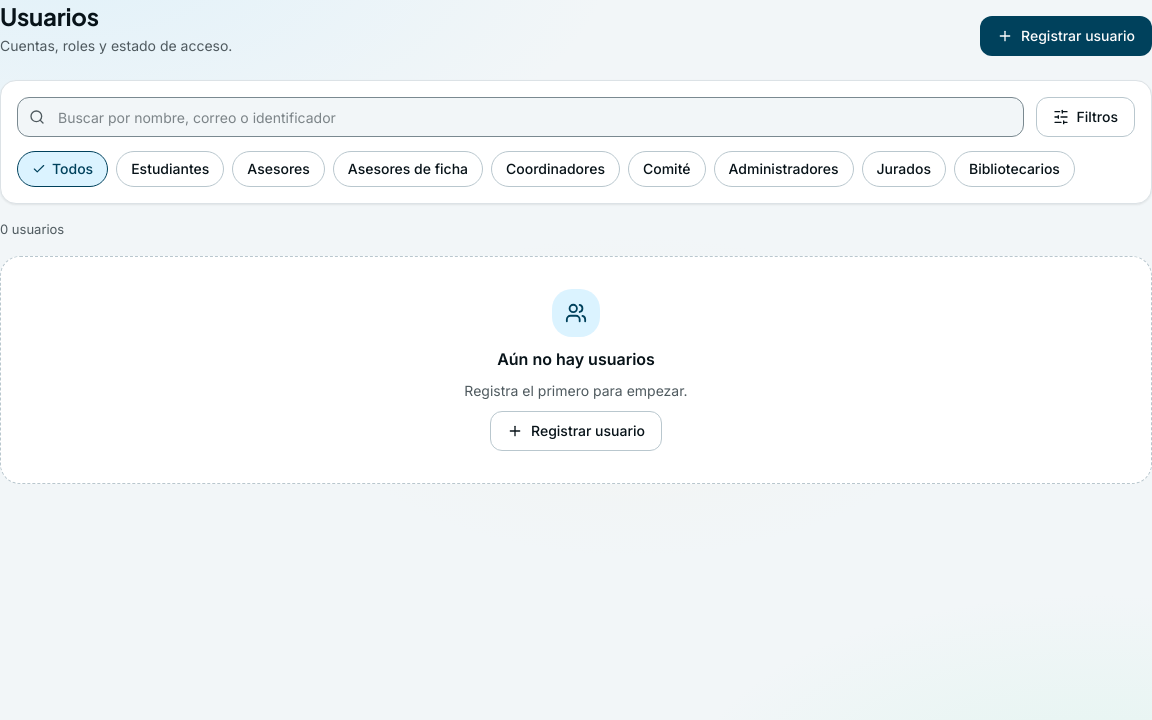
it: AdministradorView › el vacío "Aún no hay usuarios" ofrece "Registrar usuario" y abre el panel
Expected: the text "Aún no hay usuarios" is shown, [497,347,655,371]
Click the button "Registrar usuario" below "Registra el primero para empezar." at (576, 431), box [490,411,662,451]
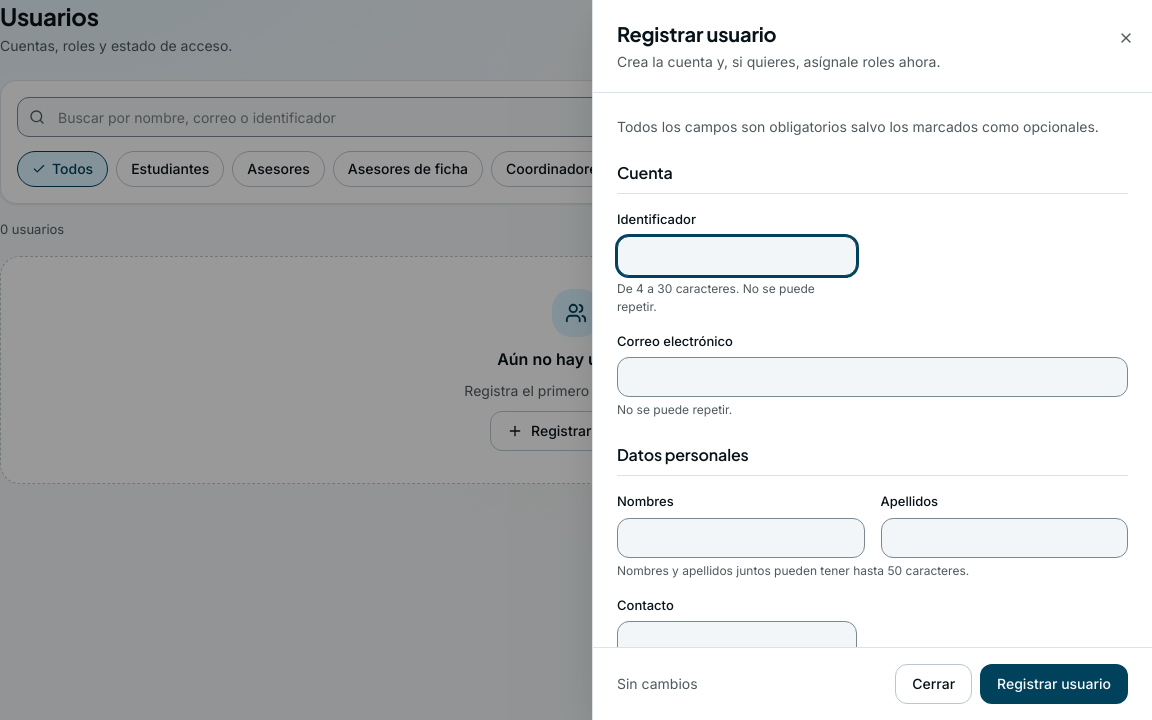
Result: the dialog "Registrar usuario" is shown at [592,0,1151,719]
